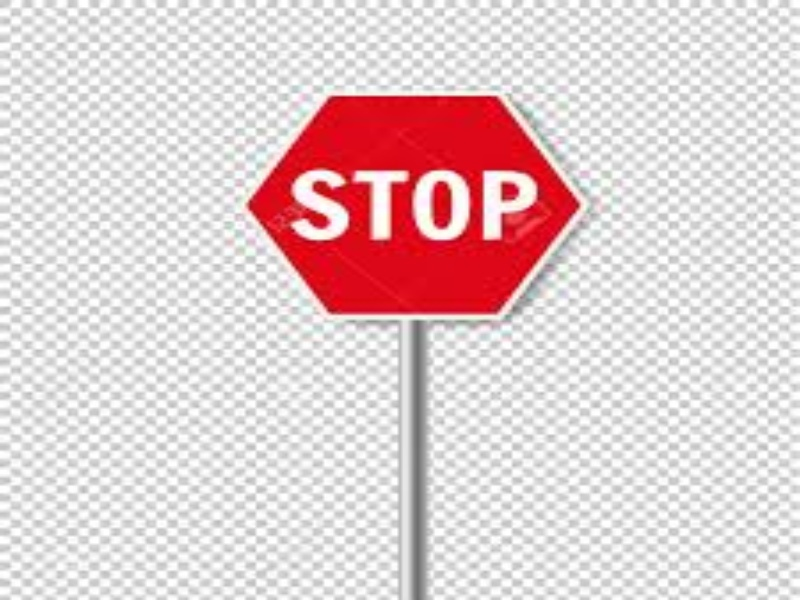Stop_Sign: (245, 91, 593, 324)
